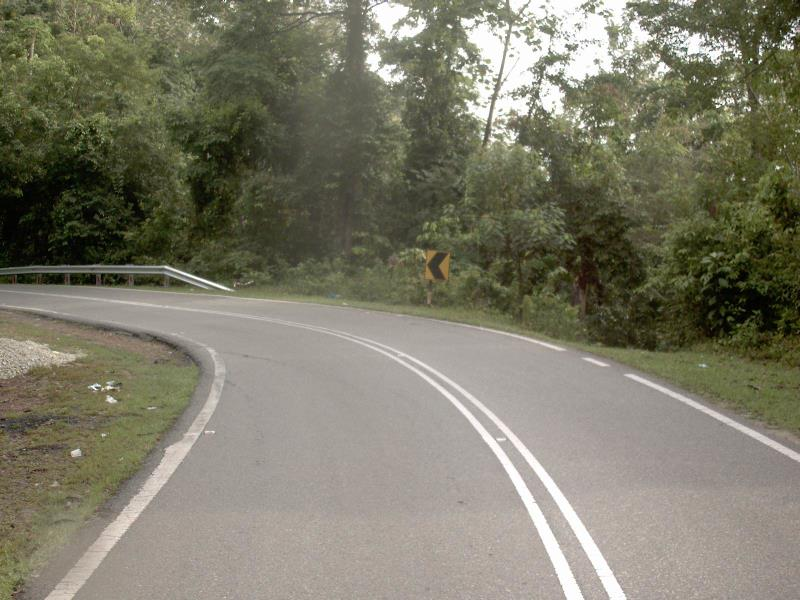traffic_sign: (416, 243, 457, 294)
